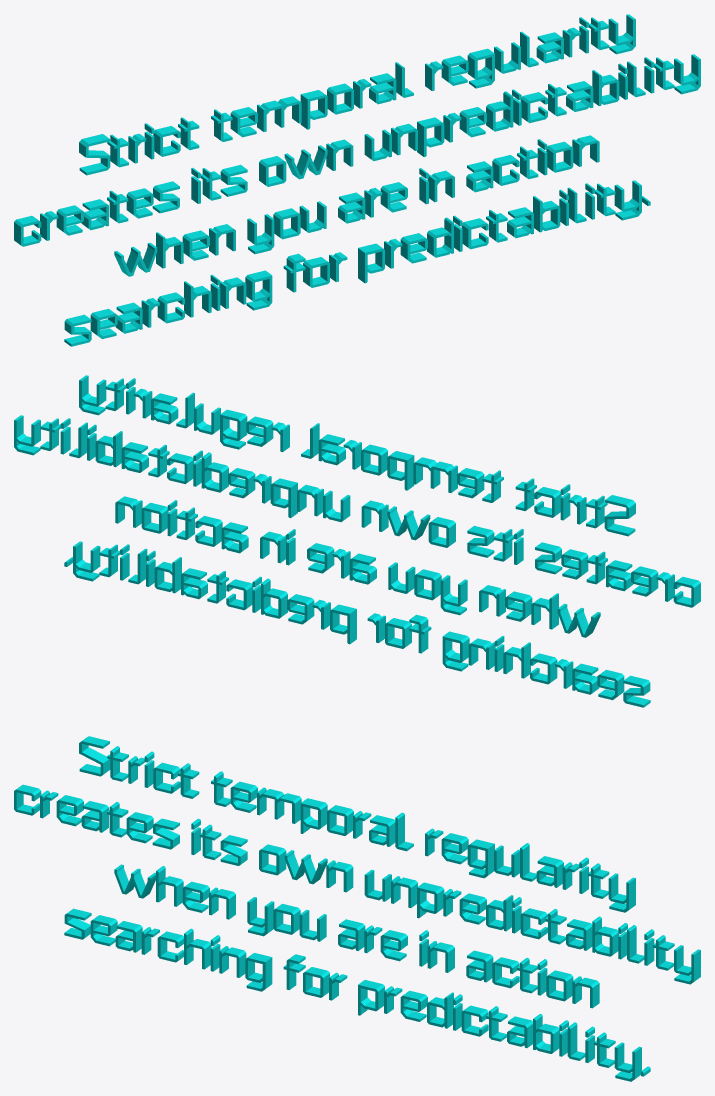
File: JI_HYP_1_TEXT.fbx
The picture shows the model from 3 angles, top to bottom: view 1: azimuth 30°, elevation 25°; view 2: azimuth 150°, elevation 25°; view 3: azimuth 330°, elevation 25°; orthographic projection.
Parts seen in each view (by area): view 1: JI_HYP_1_TEXT; view 2: JI_HYP_1_TEXT; view 3: JI_HYP_1_TEXT.
Part boxes in pixels (x1,y1,x2,y2): JI_HYP_1_TEXT: [14, 14, 700, 346]; JI_HYP_1_TEXT: [14, 375, 700, 707]; JI_HYP_1_TEXT: [14, 736, 700, 1081].
Bounding box in the file's own units: 13.19 × 3.83 × 0.2324.
